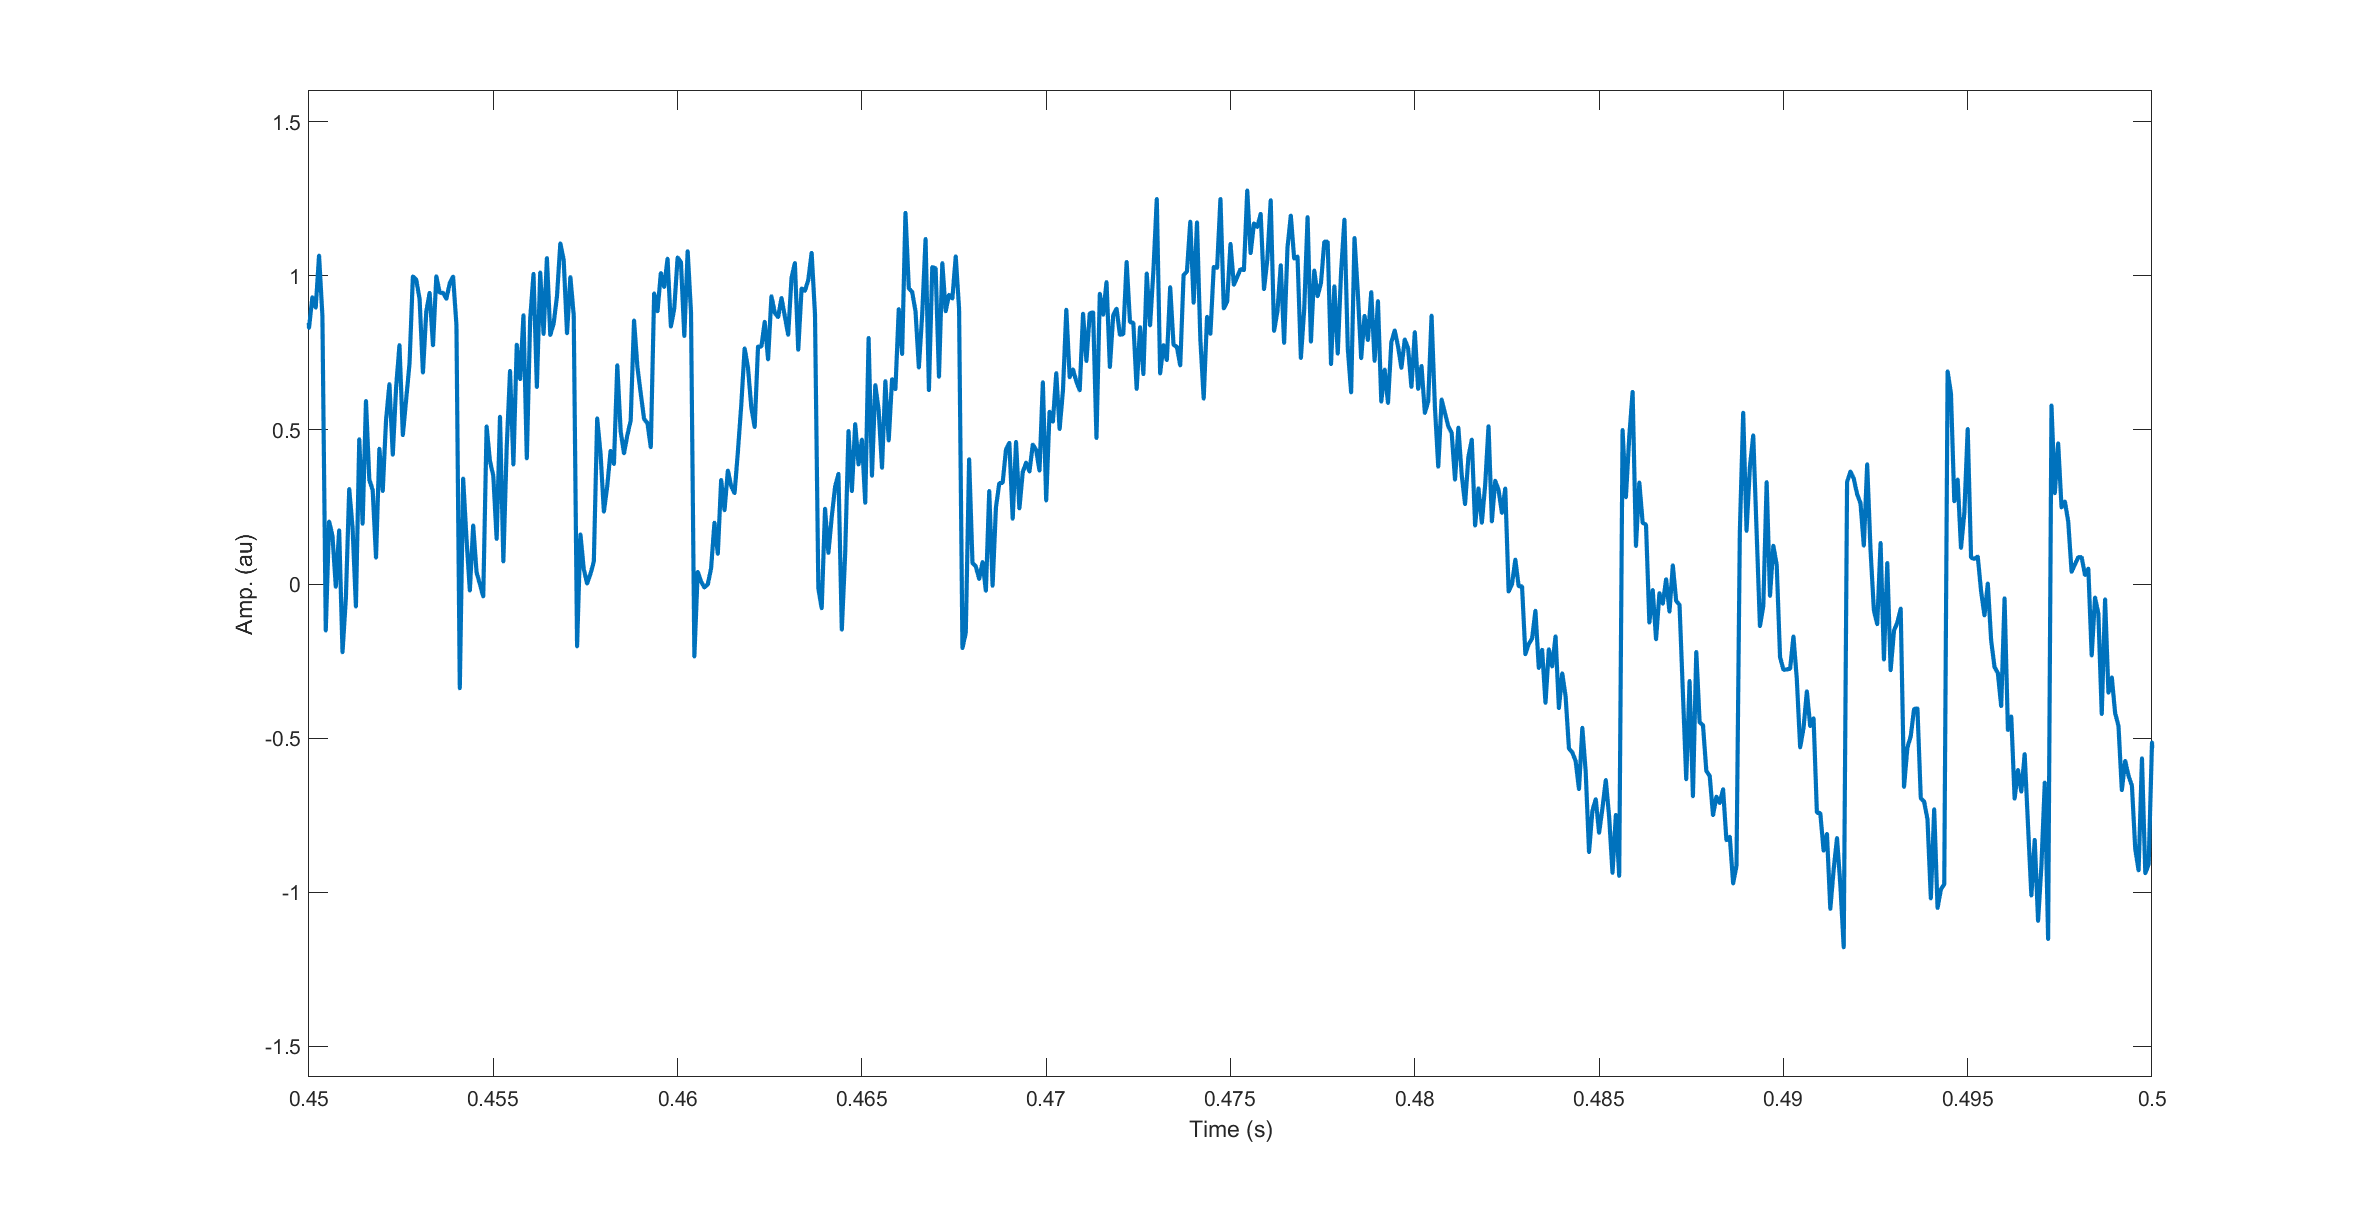negative_fringe: (1600, 375, 1714, 895), (2042, 386, 2137, 955), (1935, 358, 2029, 914), (1724, 404, 1824, 889), (1833, 451, 1920, 962)
positive_fringe: (333, 265, 474, 695), (849, 194, 975, 657), (589, 227, 702, 671), (474, 225, 582, 656), (707, 230, 827, 610)
